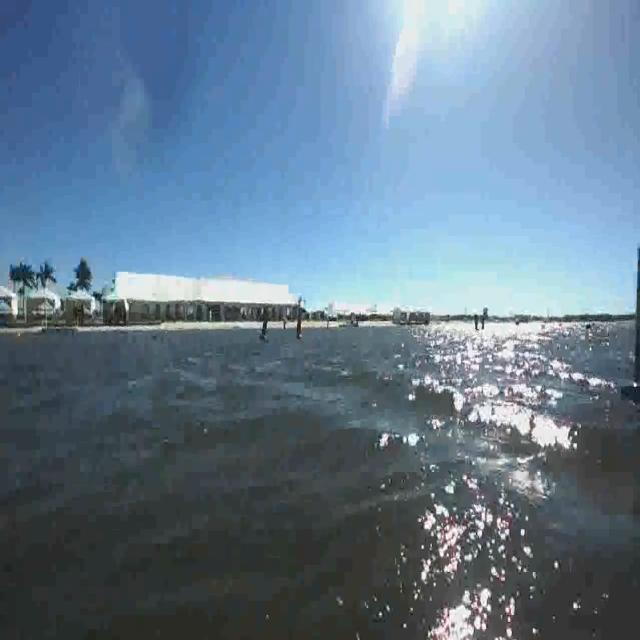green-column-buoy: (258, 312, 270, 342)
red-column-buoy: (294, 314, 303, 339)
